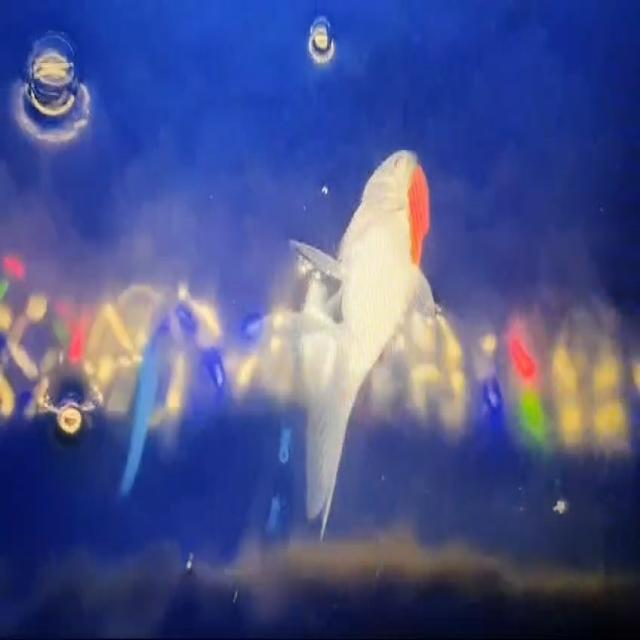fish: (259, 121, 433, 538)
